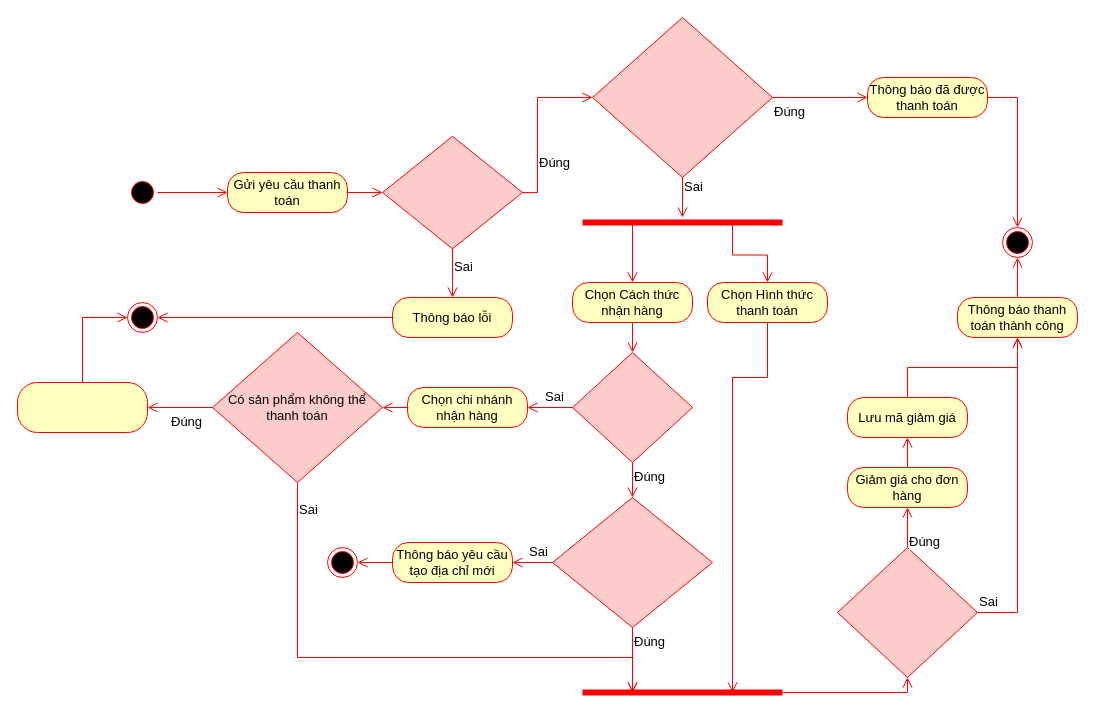
Some shapes in this 1095 by 720 pixel diagram are drawn without their labels. Here are the shapes that lost their labels. From the top down, the box of each, then its label:
(592, 16, 772, 178): Đơn hàng đã thanh toán ở nền tảng khác
(382, 135, 522, 249): Cho phép thanh toán
(16, 382, 148, 432): Thông báo không thể thanh toán đơn hàng
(572, 352, 692, 462): Giao hàng tận nơi
(552, 496, 712, 628): Đã có địa chỉ giao hàng
(836, 546, 978, 678): Sử dụng Mã giảm giá
